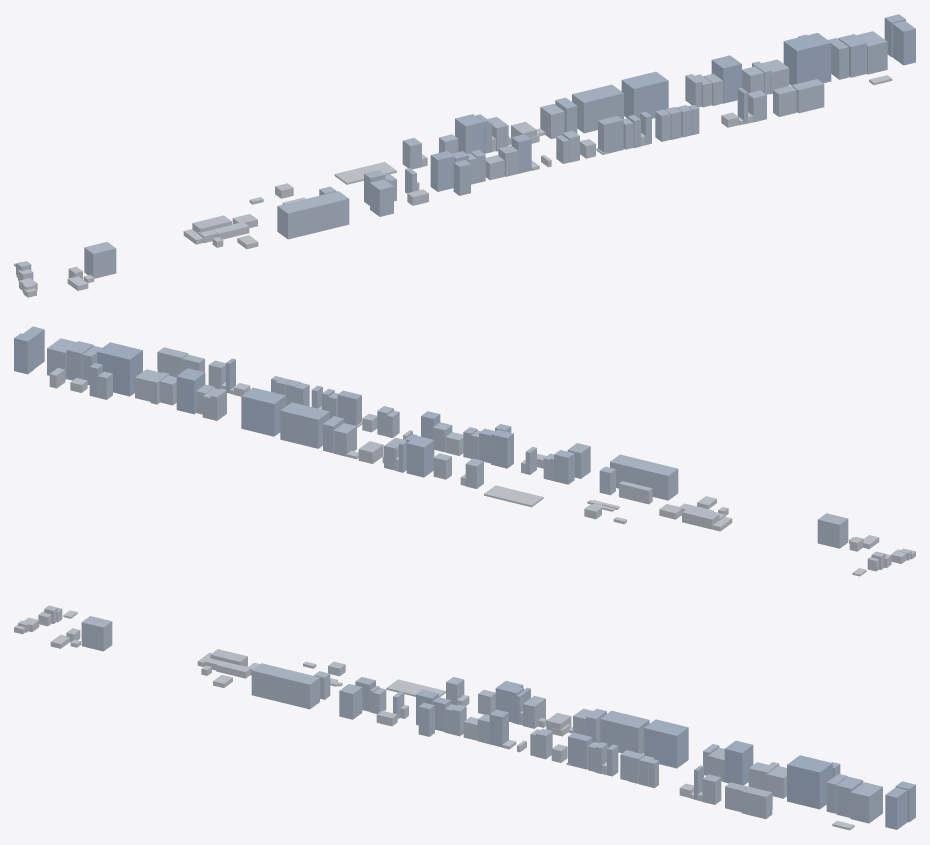
3 renders of one model, top to bottom at view 1: azimuth 30°, elevation 25°; view 2: azimuth 150°, elevation 25°; view 3: azimuth 330°, elevation 25°, orthographic. The views are drawn at different scales.
Size of the model in its own units: 1473 by 59.92 by 151.
